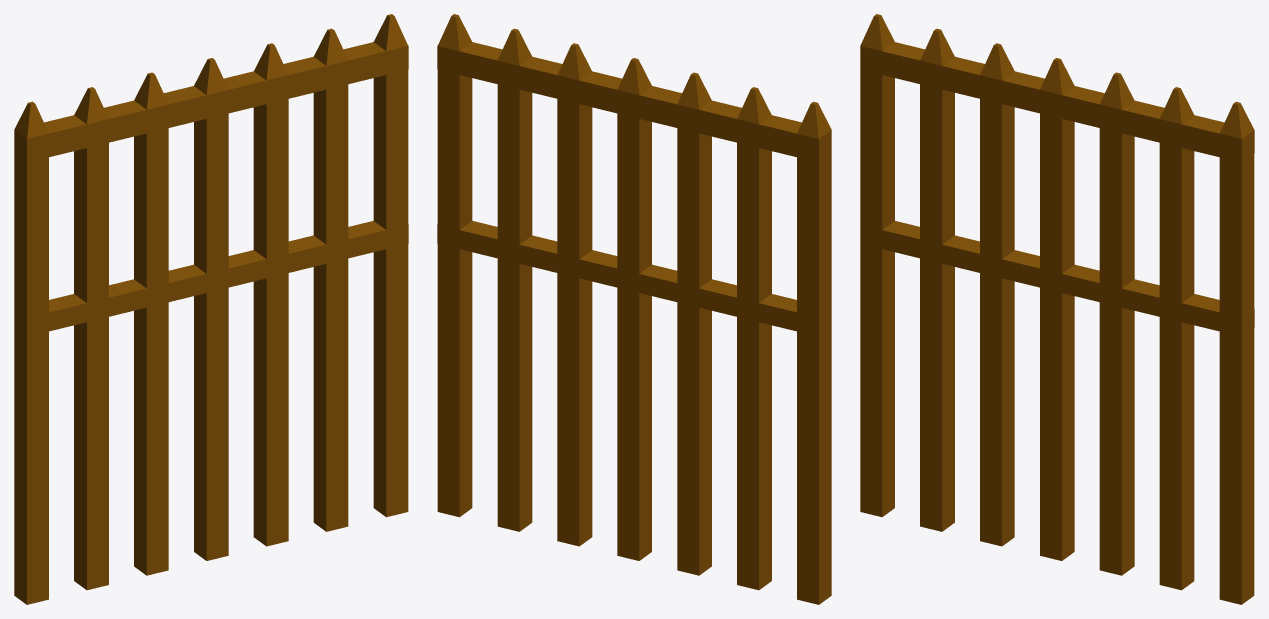
Rendered from Starting Point WOoden fences.fbx.
The picture shows the model from 3 angles, left to right: view 1: azimuth 30°, elevation 25°; view 2: azimuth 150°, elevation 25°; view 3: azimuth 330°, elevation 25°; orthographic projection.
Parts seen in each view (by area): view 1: Cube.121; view 2: Cube.121; view 3: Cube.121.
Boxes of the visible parts, box(x1,y1,x2,y2) form: Cube.121: box(14, 14, 408, 604); Cube.121: box(437, 14, 831, 604); Cube.121: box(860, 14, 1254, 604).
Size of the model in its own units: 464 by 574 by 26.81.
